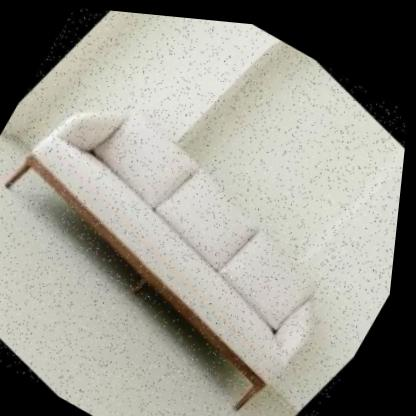Sofa: (0, 25, 414, 416)
